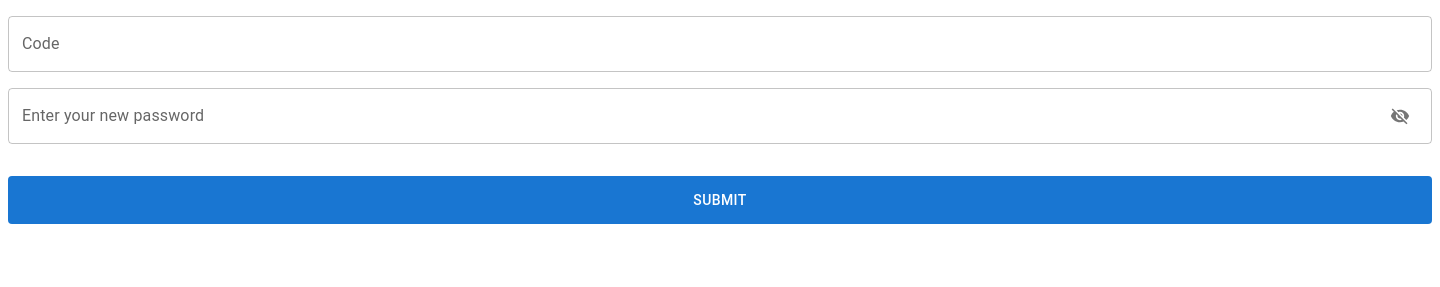
it: ConfirmChangePasswordForm (TS-11) › blocks submit when both fields are empty and shows both errors
The width and height of the screenshot is (1440, 287).
Click the button "Submit" at (720, 200), box [8, 176, 1432, 224]
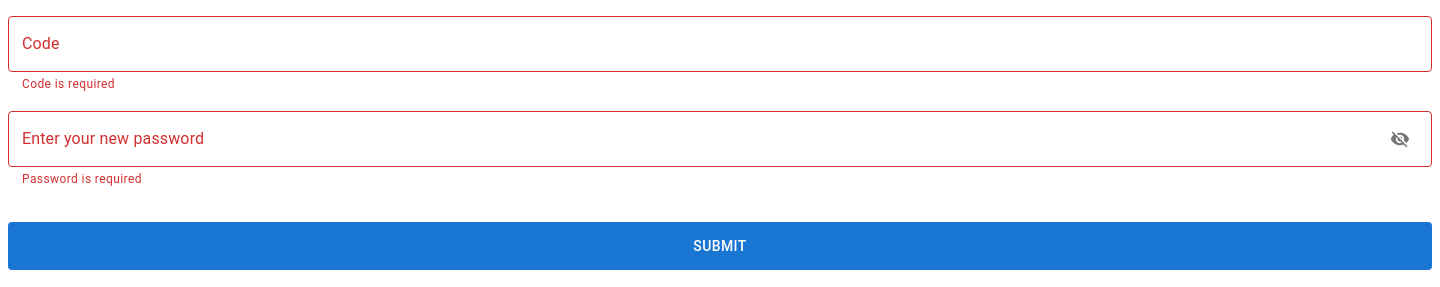
Result: the text "Code is required" is shown at [22, 77, 115, 91]
Result: the text "Password is required" is shown at [22, 172, 142, 186]
